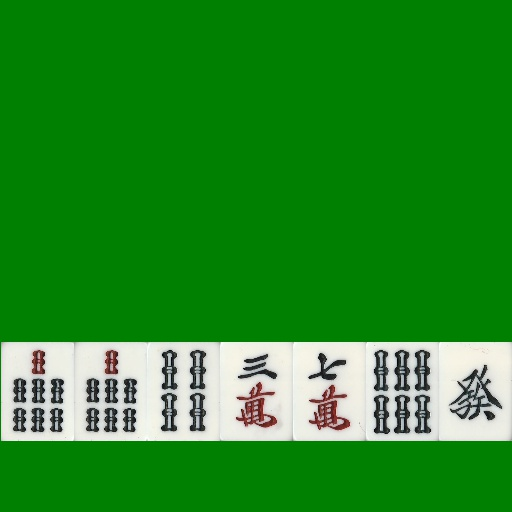3m: (220, 342, 293, 441)
4s: (147, 342, 220, 441)
6s: (366, 342, 439, 441)
7m: (293, 342, 366, 441)
7s: (1, 342, 74, 441), (74, 342, 147, 441)
hatsu: (439, 342, 512, 441)
